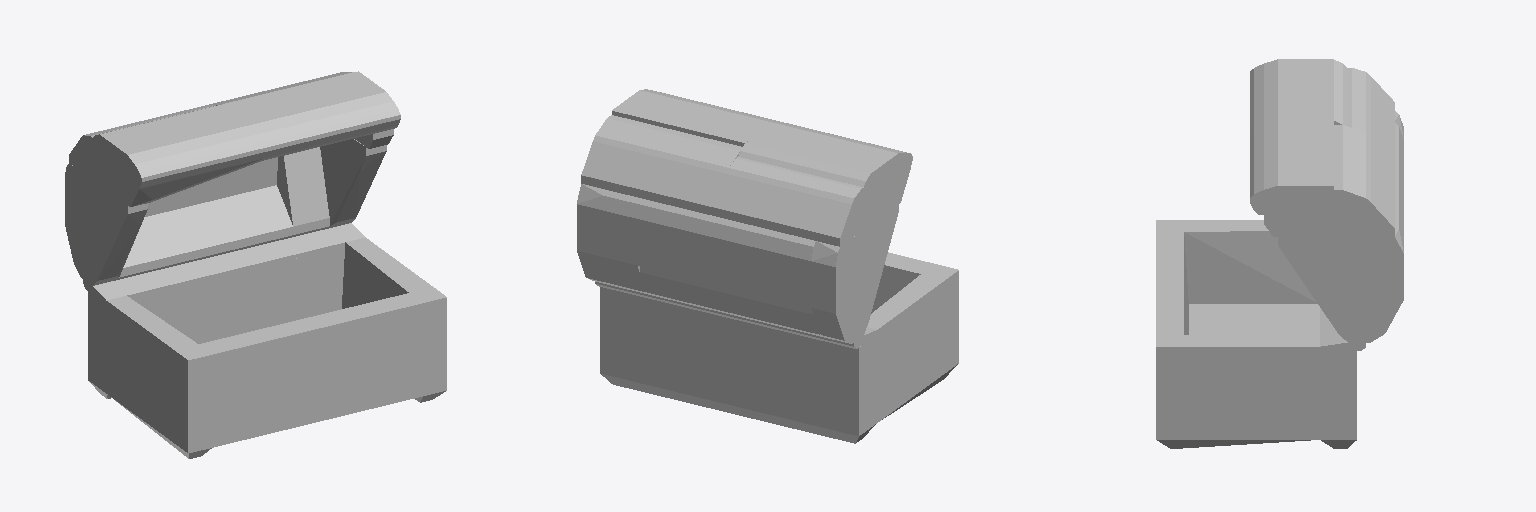
File: chest_collision.obj
3 views of the same model, side by side, from view 1: azimuth 30°, elevation 25°; view 2: azimuth 150°, elevation 25°; view 3: azimuth 270°, elevation 25° (orthographic).
Visible parts, largest first — view 1: convex_11, convex_0, convex_2, convex_8, convex_12, convex_14, convex_3, convex_4, convex_1, convex_6, convex_5, convex_15 (+1 smaller); view 2: convex_0, convex_15, convex_9, convex_2, convex_7, convex_8, convex_4, convex_12, convex_14, convex_5, convex_6, convex_11 (+1 smaller); view 3: convex_3, convex_6, convex_2, convex_12, convex_9, convex_8, convex_10, convex_0, convex_11, convex_7, convex_13, convex_1 (+1 smaller).
Part boxes in pixels (bbox=[...]): convex_11: bbox=[199, 293, 422, 447]; convex_0: bbox=[88, 247, 344, 398]; convex_2: bbox=[107, 296, 212, 458]; convex_8: bbox=[93, 104, 266, 206]; convex_12: bbox=[226, 71, 400, 160]; convex_14: bbox=[117, 185, 292, 279]; convex_3: bbox=[342, 237, 446, 402]; convex_4: bbox=[65, 163, 147, 285]; convex_1: bbox=[83, 223, 364, 304]; convex_6: bbox=[320, 139, 386, 228]; convex_5: bbox=[277, 147, 329, 237]; convex_15: bbox=[145, 157, 277, 216]; convex_0: bbox=[600, 287, 877, 443]; convex_15: bbox=[637, 199, 815, 307]; convex_9: bbox=[581, 115, 742, 215]; convex_2: bbox=[867, 264, 958, 421]; convex_7: bbox=[715, 157, 863, 246]; convex_8: bbox=[738, 122, 912, 228]; convex_4: bbox=[811, 204, 898, 343]; convex_12: bbox=[612, 89, 779, 146]; convex_14: bbox=[640, 266, 825, 337]; convex_5: bbox=[601, 190, 652, 295]; convex_6: bbox=[577, 184, 615, 286]; convex_11: bbox=[871, 252, 933, 313]; convex_3: bbox=[1156, 335, 1319, 448]; convex_6: bbox=[1278, 226, 1403, 342]; convex_2: bbox=[1156, 220, 1317, 303]; convex_12: bbox=[1250, 121, 1333, 214]; convex_9: bbox=[1334, 125, 1394, 236]; convex_8: bbox=[1250, 59, 1347, 131]; convex_10: bbox=[1189, 304, 1319, 336]; convex_0: bbox=[1320, 351, 1356, 448]; convex_11: bbox=[1156, 232, 1188, 334]; convex_7: bbox=[1348, 68, 1394, 162]; convex_13: bbox=[1264, 215, 1333, 236]; convex_1: bbox=[1320, 308, 1365, 350].
Bounding box in the file's own units: 3.05 × 3 × 2.52.